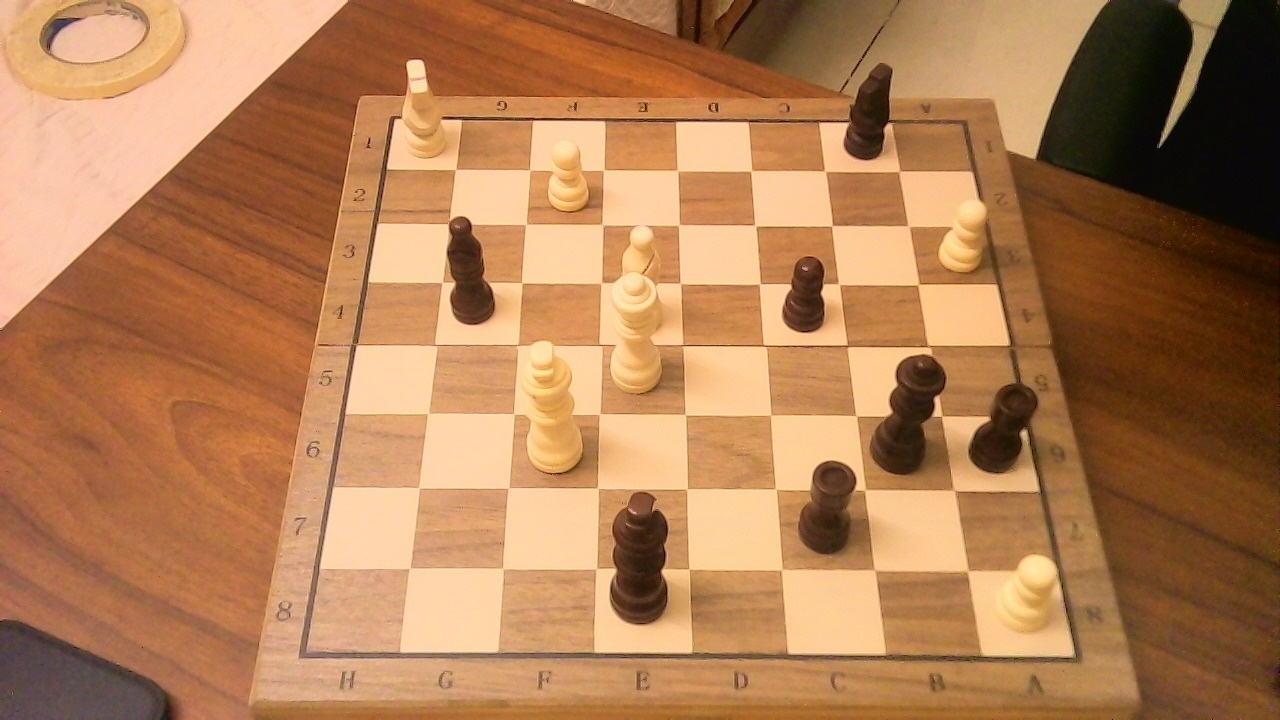B: (608, 215, 667, 316)
K: (516, 329, 592, 478)
N: (394, 65, 452, 163)
P: (989, 544, 1069, 636), (932, 189, 996, 275), (538, 130, 595, 216)
Q: (605, 261, 674, 397)
b: (442, 203, 509, 329)
k: (602, 476, 686, 630)
n: (836, 50, 902, 165)
p: (775, 245, 838, 337)
q: (868, 339, 957, 478)
r: (963, 370, 1048, 477), (791, 448, 868, 557)
